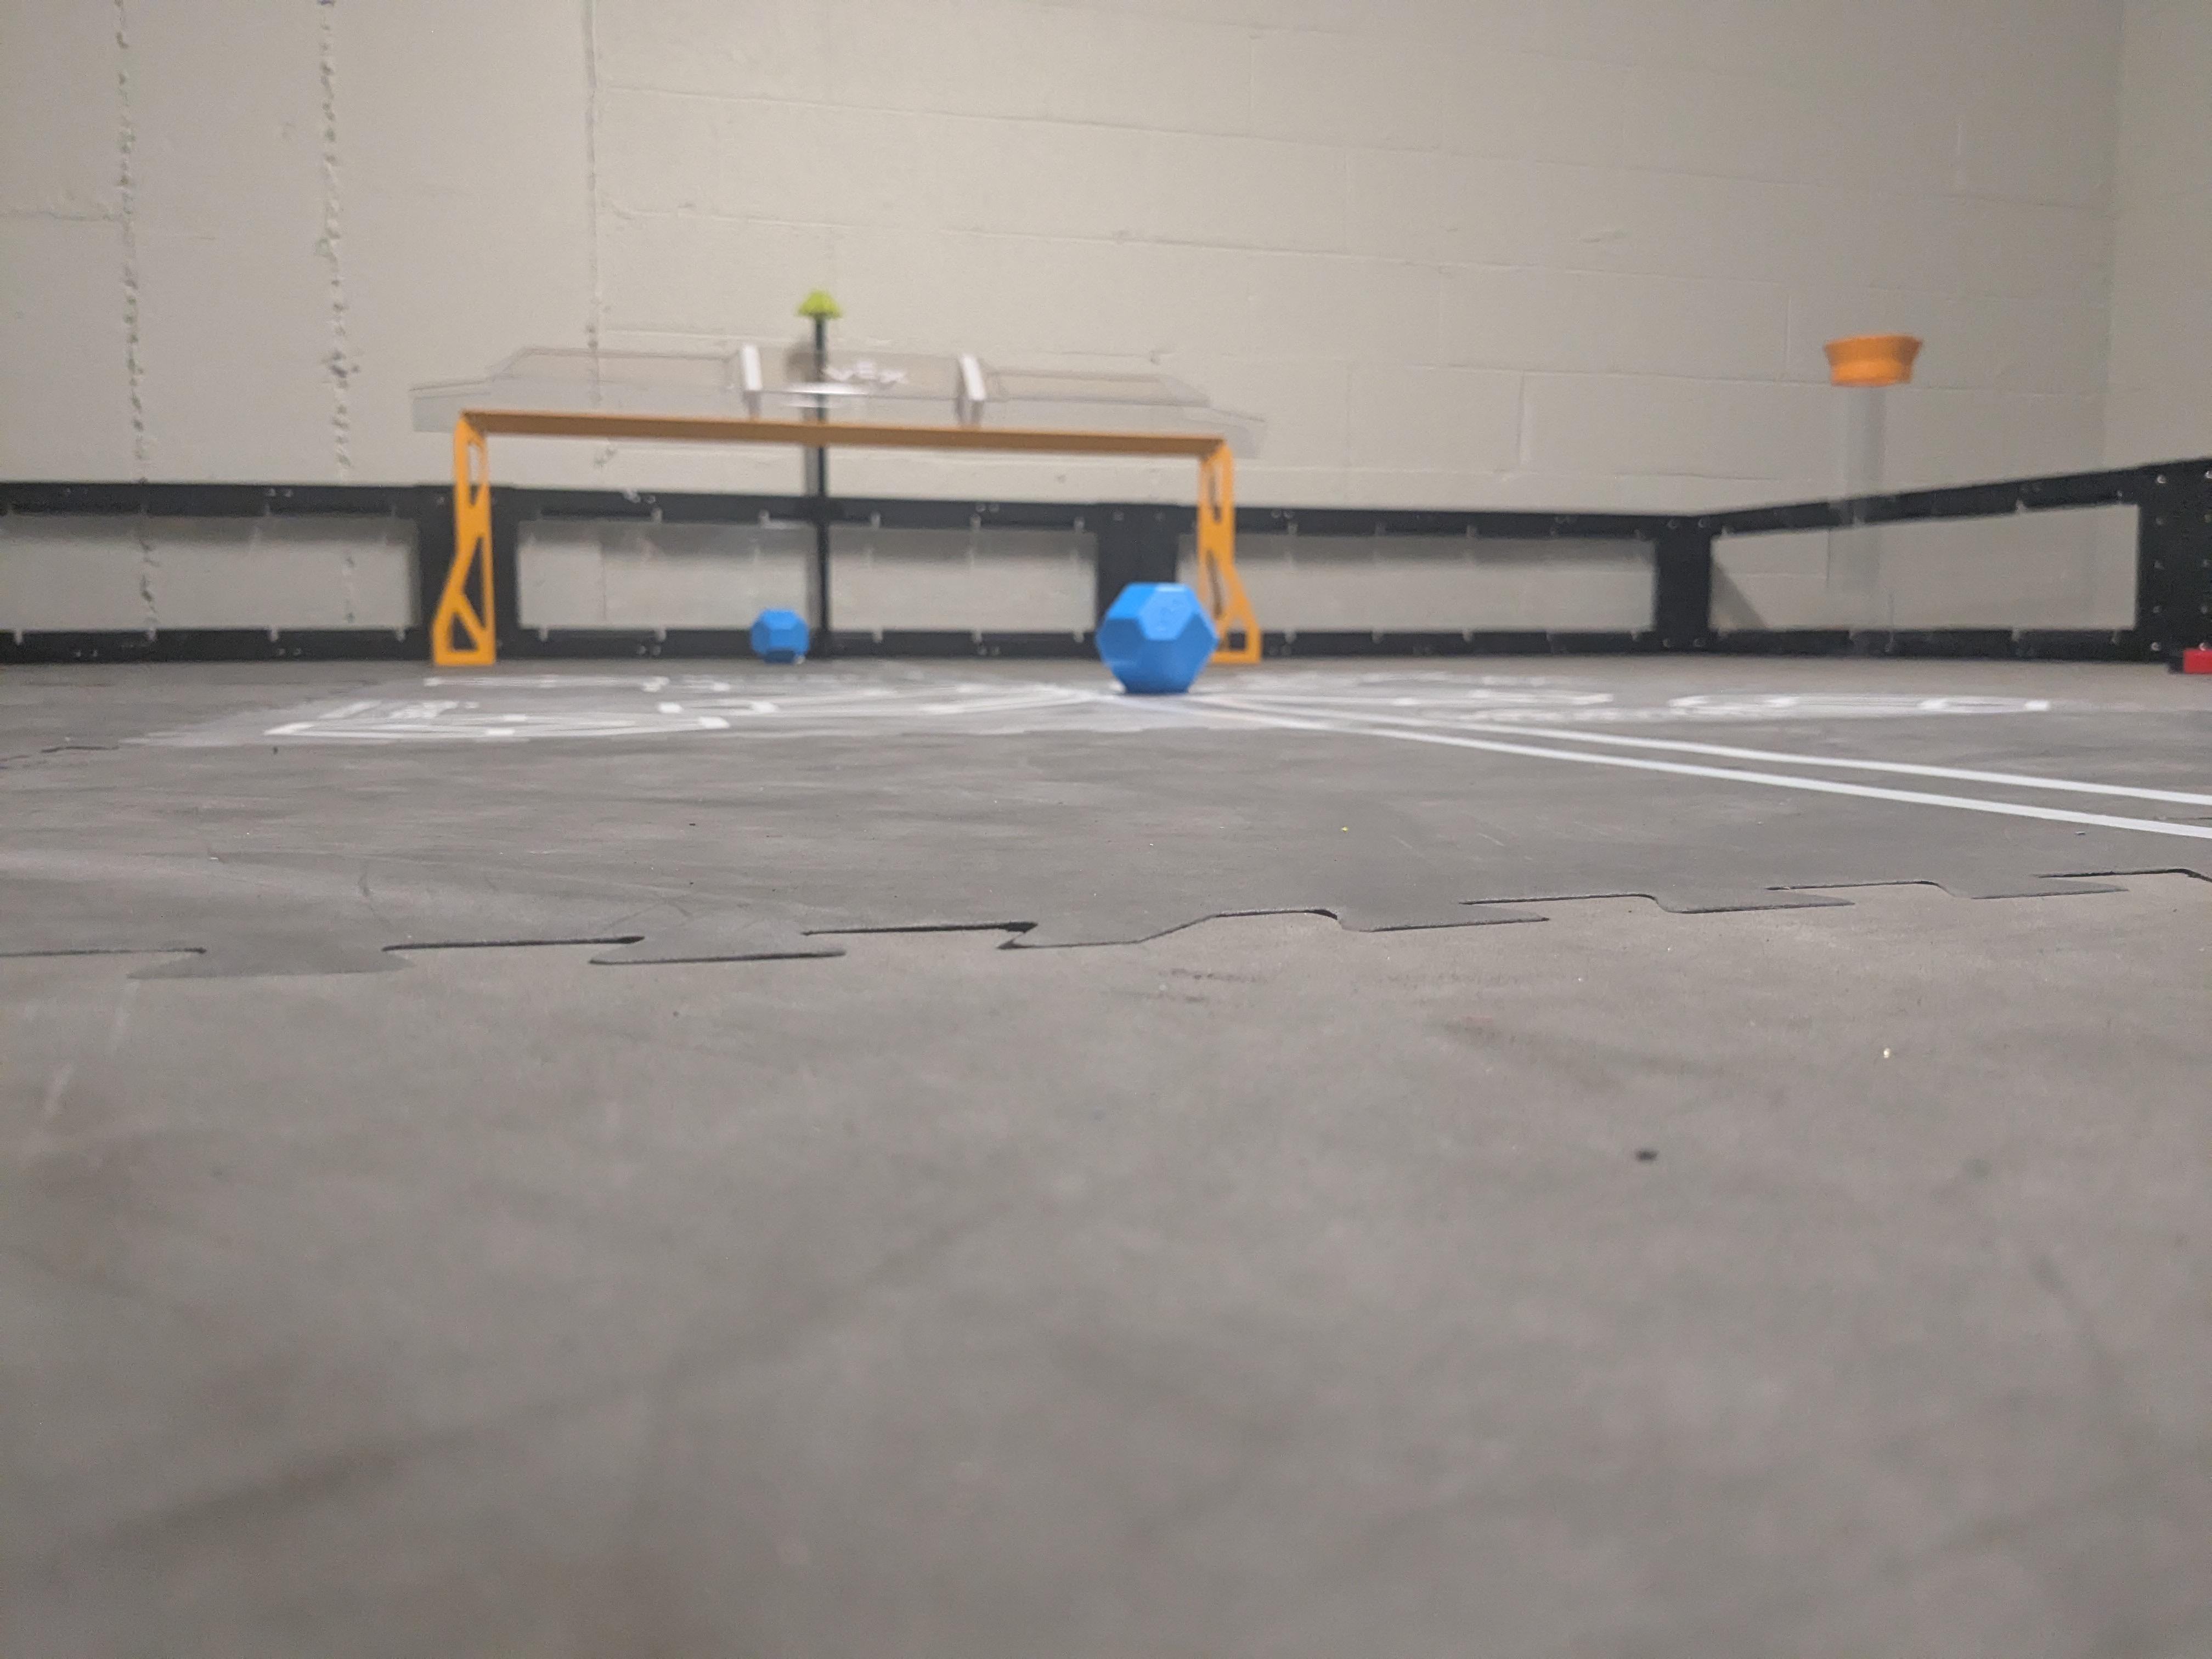Vex-Pieces-BLUE: (1096, 586, 1212, 692), (749, 608, 810, 664)
